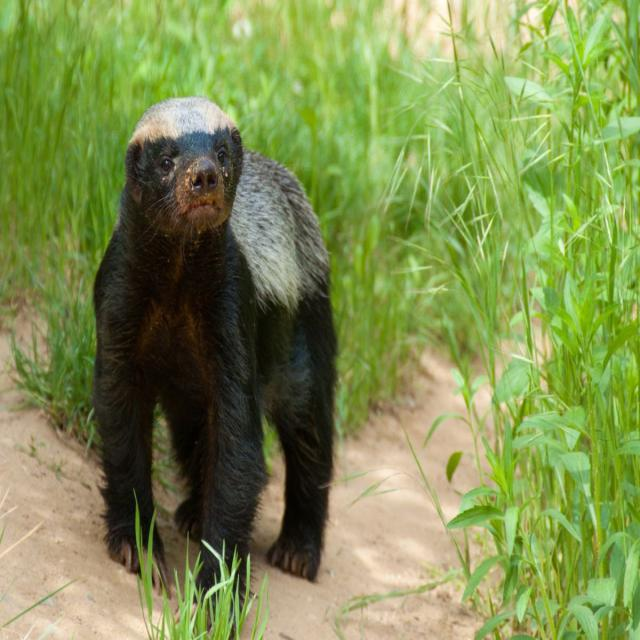Badger: (86, 94, 338, 608)
